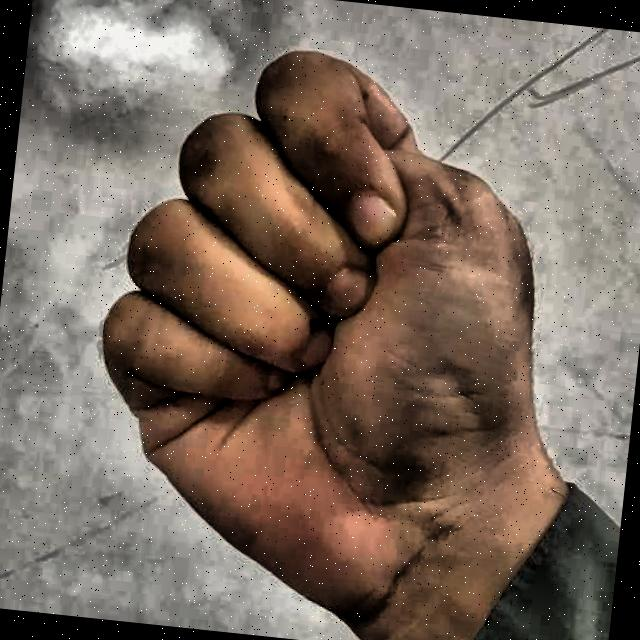To: (29, 8, 598, 640)
